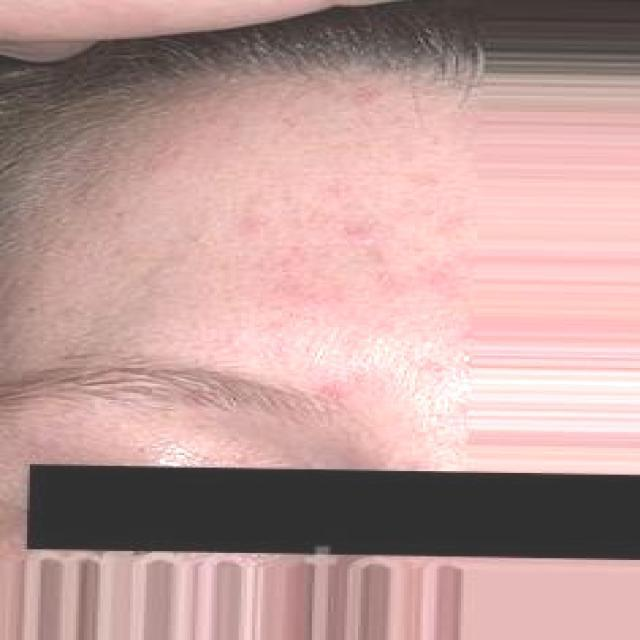Rosacea: (215, 164, 470, 400)
